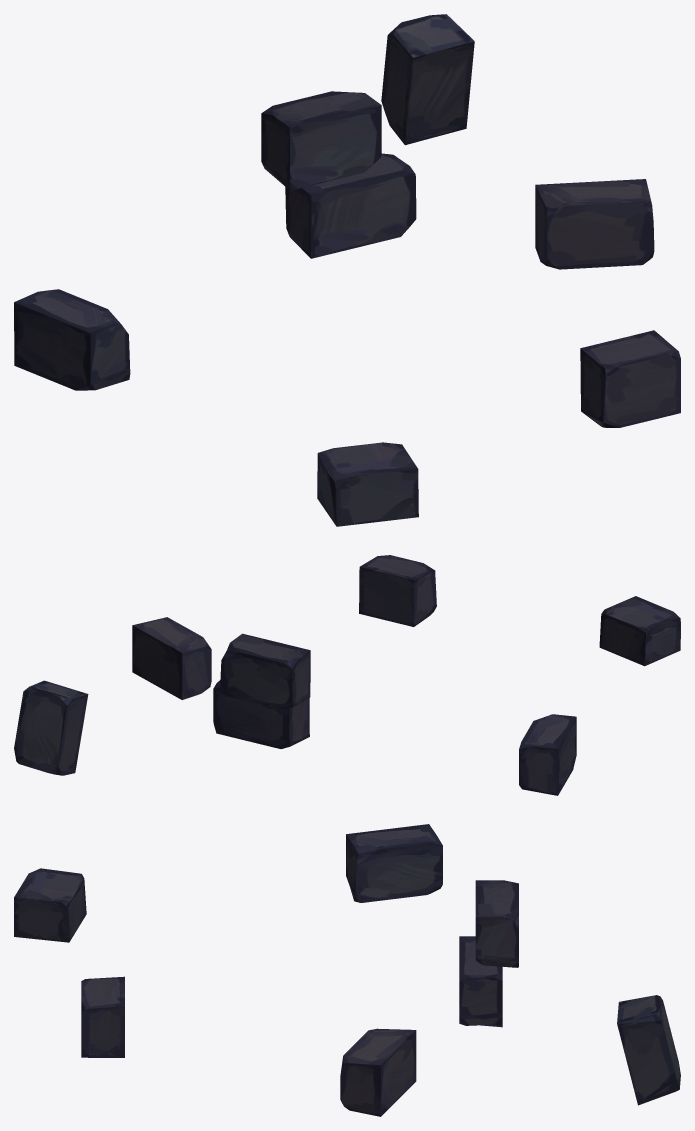
File: Ruins11.fbx
3 renders of one model, top to bottom at view 1: azimuth 30°, elevation 25°; view 2: azimuth 150°, elevation 25°; view 3: azimuth 270°, elevation 25°, orthographic. The views are drawn at different scales.
Parts seen in each view (by area): view 1: Ruins11; view 2: Ruins11; view 3: Ruins11.
Boxes of the visible parts, <box> form: Ruins11: <box>14,14,680,526</box>; Ruins11: <box>14,555,680,795</box>; Ruins11: <box>14,824,680,1116</box>.
Bounding box in the file's own units: 5.47 × 1.26 × 6.43.
1 material, 1 textured.
